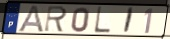0: (69, 6, 91, 34)
1: (143, 8, 154, 35)
A: (16, 5, 45, 34)
I: (122, 7, 135, 35)
L: (93, 5, 112, 34)
R: (43, 5, 69, 33)
